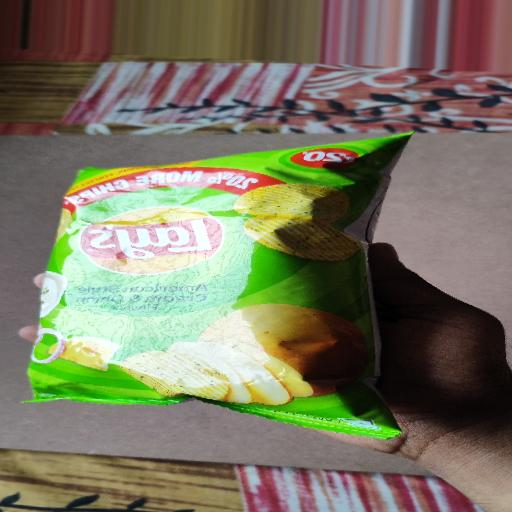Lays Green Small pack (American style cream and onion): (11, 137, 434, 447)
